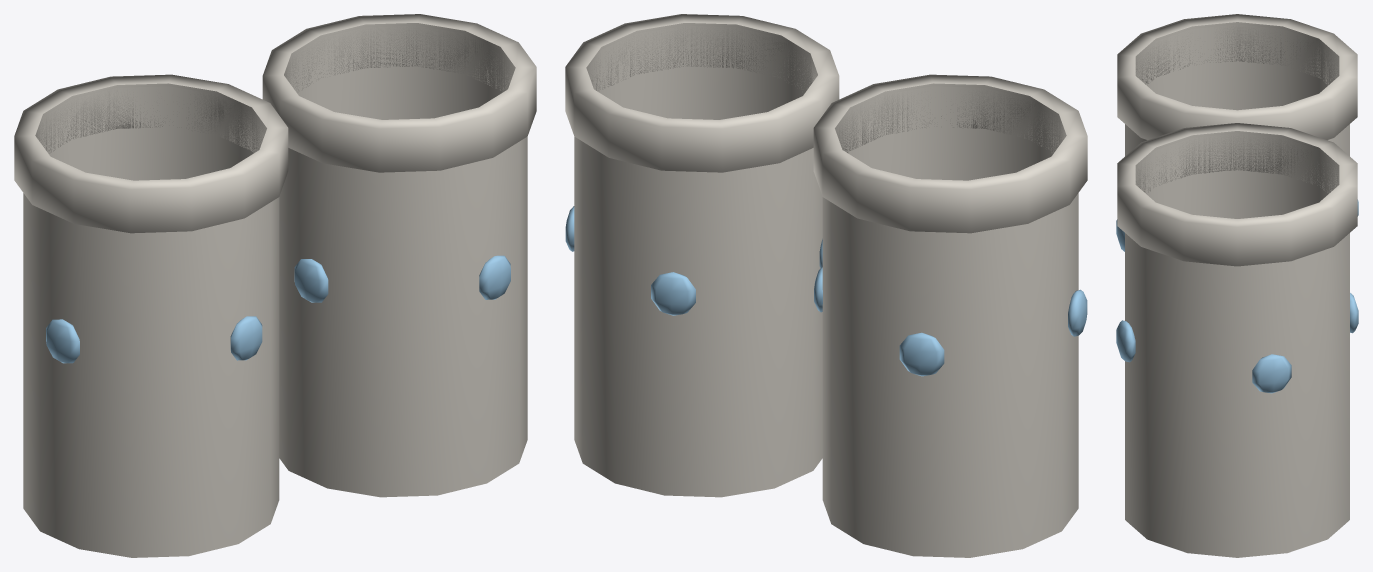
File: sequin_leggings.glb
3 views of the same model, side by side, from view 1: azimuth 30°, elevation 25°; view 2: azimuth 150°, elevation 25°; view 3: azimuth 270°, elevation 25° (orthographic). The views are drawn at different scales.
Visible parts, largest first — view 1: sequin_leggings_LegL, sequin_leggings_LegR; view 2: sequin_leggings_LegL, sequin_leggings_LegR; view 3: sequin_leggings_LegR, sequin_leggings_LegL.
Part boxes in pixels (x1,y1,x2,y2): sequin_leggings_LegL: [14, 74, 288, 557]; sequin_leggings_LegR: [262, 14, 536, 497]; sequin_leggings_LegL: [813, 74, 1087, 557]; sequin_leggings_LegR: [565, 14, 839, 497]; sequin_leggings_LegR: [1116, 123, 1358, 557]; sequin_leggings_LegL: [1116, 14, 1358, 251].
Size of the model in its own units: 0.372 by 0.272 by 0.1789.
